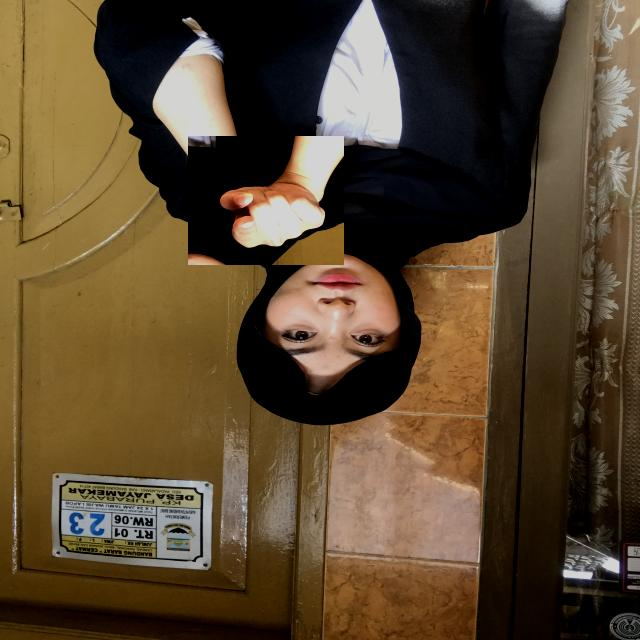kamu: (188, 136, 344, 265)
